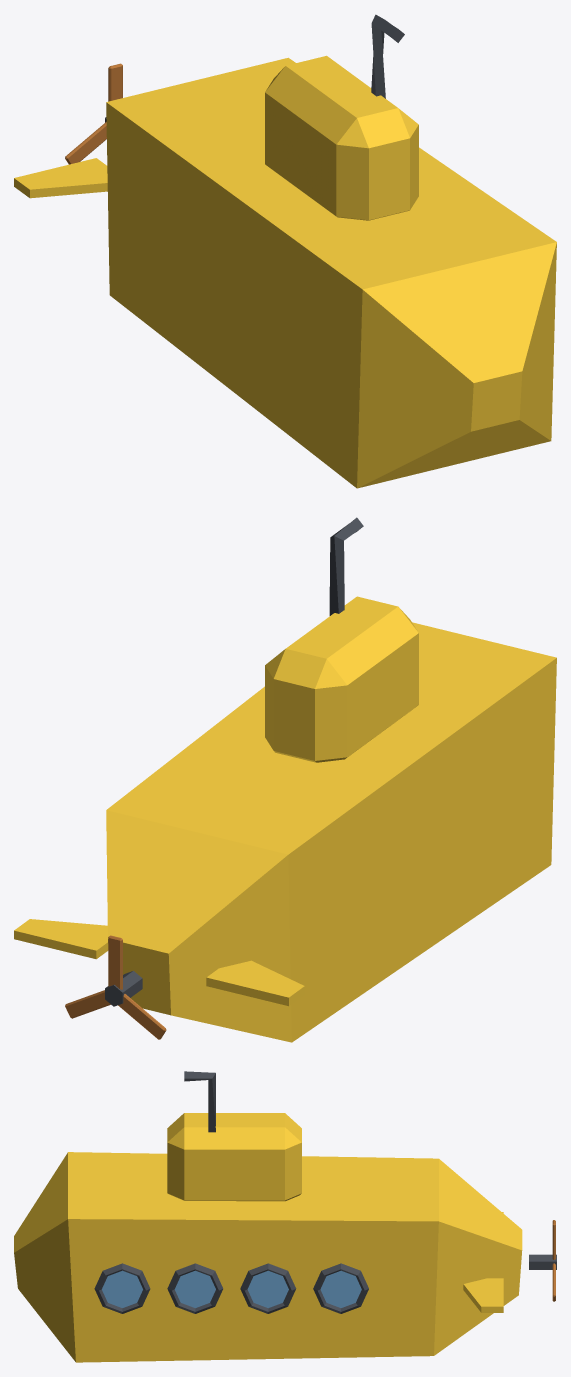
Rendered from Submarine.fbx.
The picture shows the model from 3 angles, top to bottom: view 1: azimuth 30°, elevation 25°; view 2: azimuth 150°, elevation 25°; view 3: azimuth 270°, elevation 25°; orthographic projection. The views are drawn at different scales.
Parts seen in each view (by area): view 1: Submarine, Submarine_Propeller; view 2: Submarine, Submarine_Propeller; view 3: Submarine, Submarine_Propeller.
Boxes of the visible parts, bbox=[...] form: Submarine: bbox=[14, 14, 556, 488]; Submarine_Propeller: bbox=[65, 63, 122, 164]; Submarine: bbox=[14, 517, 556, 1042]; Submarine_Propeller: bbox=[65, 935, 166, 1039]; Submarine: bbox=[14, 1071, 522, 1362]; Submarine_Propeller: bbox=[529, 1220, 556, 1301].
Bounding box in the file's own units: 4 × 5.21 × 9.69.
Materials: 1 (1 with a texture image).
